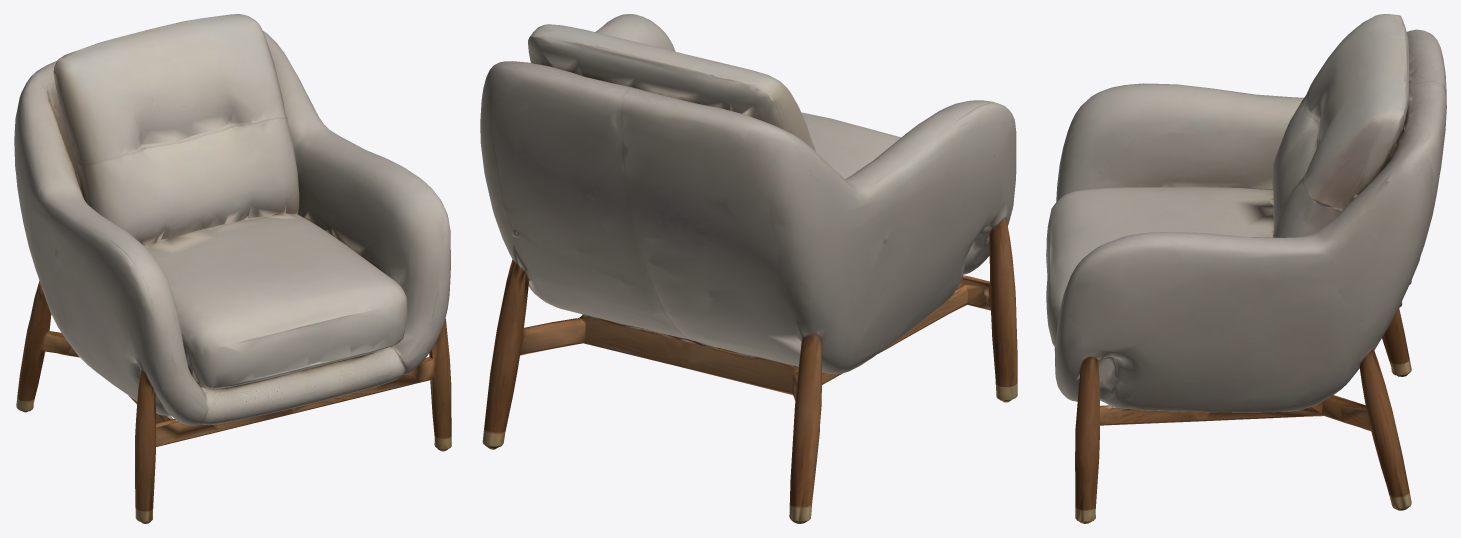
The model's file is armchair.4b5e3ba7.glb.
3 views of the same model, side by side, from view 1: azimuth 30°, elevation 25°; view 2: azimuth 150°, elevation 25°; view 3: azimuth 270°, elevation 25° (orthographic). The views are drawn at different scales.
Visible parts, largest first — view 1: tripo_node_8661504a-cb14-4737-b2b5-cf5995962c88; view 2: tripo_node_8661504a-cb14-4737-b2b5-cf5995962c88; view 3: tripo_node_8661504a-cb14-4737-b2b5-cf5995962c88.
Part boxes in pixels (bbox=[...]): tripo_node_8661504a-cb14-4737-b2b5-cf5995962c88: bbox=[14, 14, 451, 523]; tripo_node_8661504a-cb14-4737-b2b5-cf5995962c88: bbox=[480, 14, 1017, 523]; tripo_node_8661504a-cb14-4737-b2b5-cf5995962c88: bbox=[1046, 14, 1446, 523].
Bounding box in the file's own units: 0.8493 × 0.8998 × 0.85.
1 material, 1 textured.
